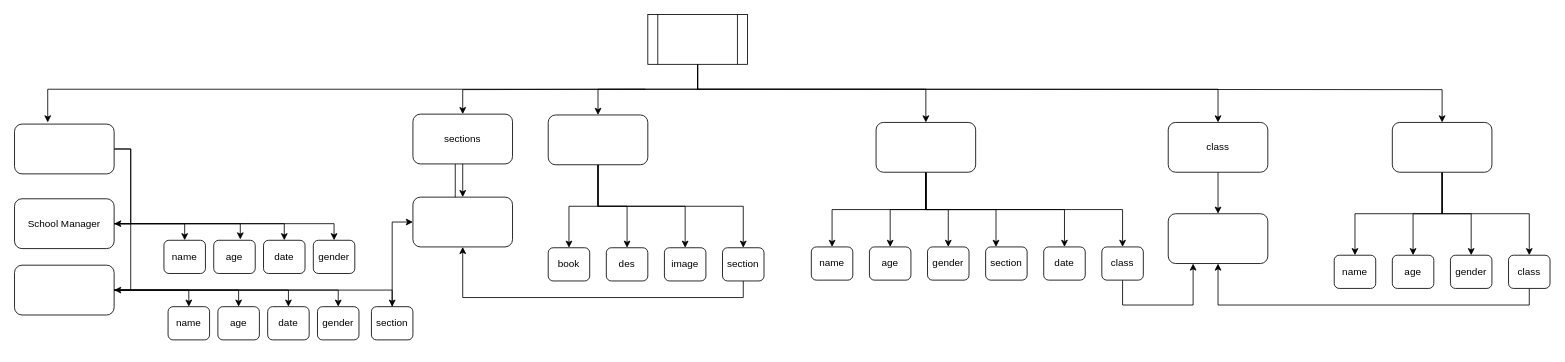
The diagram is 1565 pixels wide and 362 high, and some of its shapes have lost their labels. The shapes that lost their labels are listed below. From the top down, each one's centre as x and y in pixels, then its label:
[697,39]: the school
[64,148]: Management
[597,139]: Library
[925,147]: teachers
[1441,147]: students
[462,221]: list of sections
[1217,238]: list of class
[64,289]: Heads of Departments
